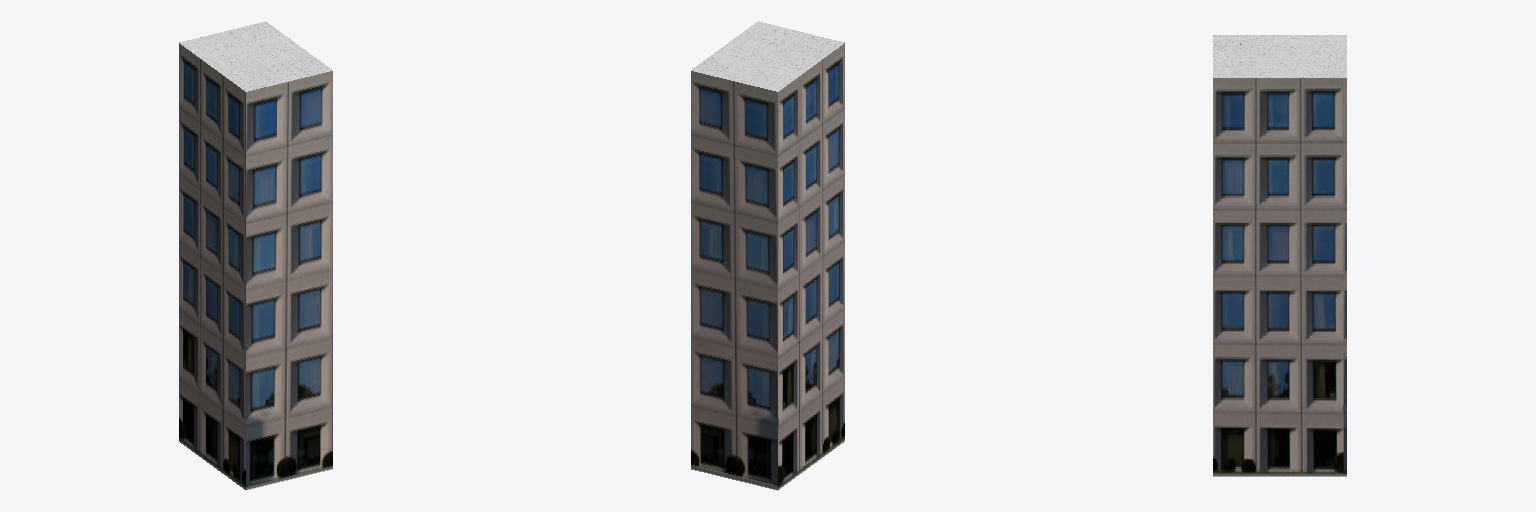
3 views of the same model, side by side, from view 1: azimuth 30°, elevation 25°; view 2: azimuth 150°, elevation 25°; view 3: azimuth 270°, elevation 25° (orthographic).
Parts seen in each view (by area): view 1: building.001, building.000; view 2: building.001, building.000; view 3: building.001, building.000.
Part boxes in pixels (x1,y1,x2,y2): building.001: (179,43,332,490); building.000: (179,21,332,91); building.001: (691,43,844,490); building.000: (691,21,844,91); building.001: (1213,78,1346,476); building.000: (1213,35,1346,77).
Size of the model in its own units: 30 by 131 by 40.
2 materials, 2 textured.